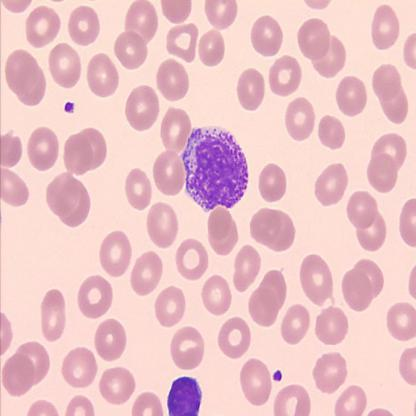Myelocyte: (183, 124, 251, 212)
